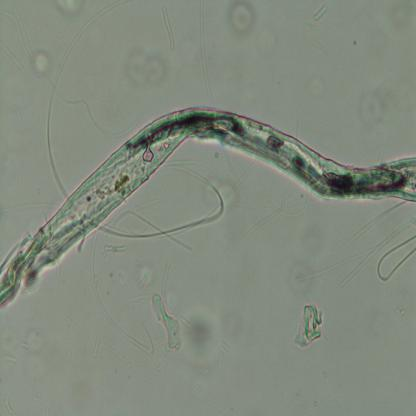Background material: (179, 305, 223, 363), (355, 83, 399, 129), (150, 292, 183, 353), (122, 47, 168, 88), (294, 301, 324, 348), (227, 2, 257, 36), (19, 327, 46, 355), (30, 51, 53, 74), (55, 0, 84, 18), (304, 80, 326, 100)
Cotton: (0, 106, 416, 306)
Glass filter fibre: (44, 1, 122, 197), (99, 169, 226, 239), (86, 230, 155, 358), (340, 219, 412, 286), (54, 88, 142, 137), (295, 248, 371, 284), (246, 188, 290, 238), (376, 233, 416, 282), (197, 0, 212, 108), (267, 186, 310, 220), (298, 17, 333, 55), (219, 145, 243, 187), (160, 258, 176, 318), (0, 40, 25, 72), (162, 6, 175, 50), (91, 335, 101, 359), (314, 3, 327, 21), (104, 243, 127, 252), (3, 397, 13, 415)
